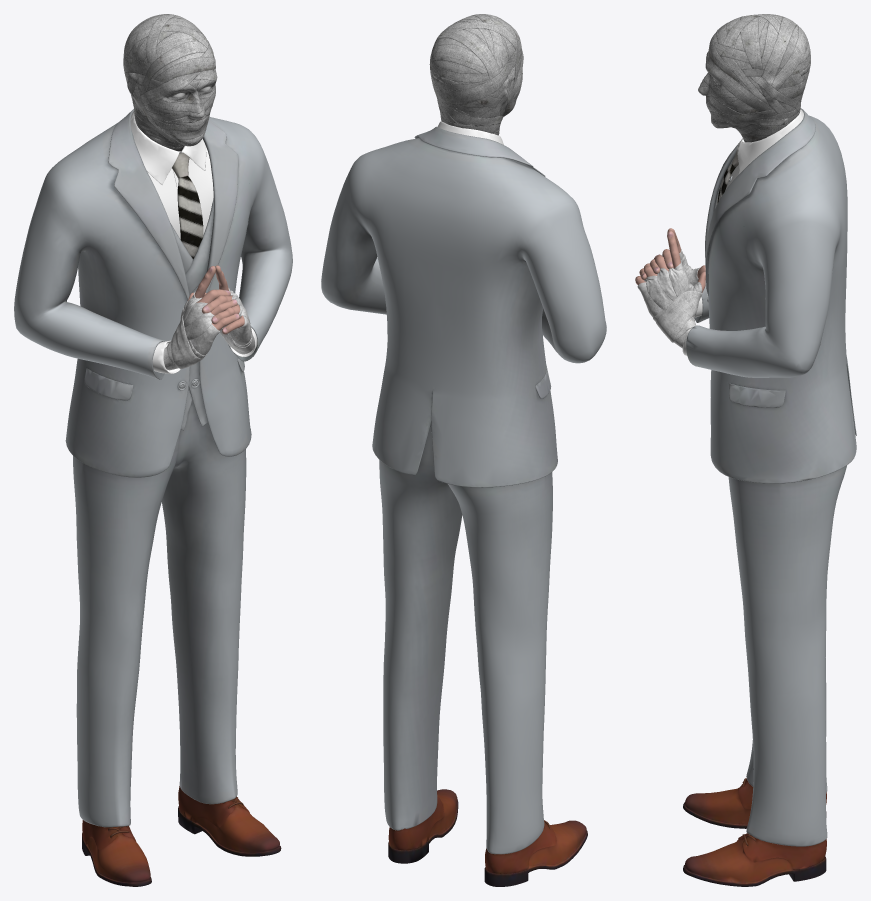
File: Arthur-hambg.glb
3 views of the same model, side by side, from view 1: azimuth 30°, elevation 25°; view 2: azimuth 150°, elevation 25°; view 3: azimuth 270°, elevation 25° (orthographic).
Parts seen in each view (by area): view 1: Arthur (×2); view 2: Arthur (×2); view 3: Arthur (×2).
Part boxes in pixels (bbox=[...]): Arthur (×2): bbox=[14, 14, 292, 886]; Arthur (×2): bbox=[321, 14, 606, 886]; Arthur (×2): bbox=[635, 14, 856, 886].
Size of the model in its own units: 0.5794 by 1.68 by 0.4063.
Materials: 2 (2 with a texture image).
